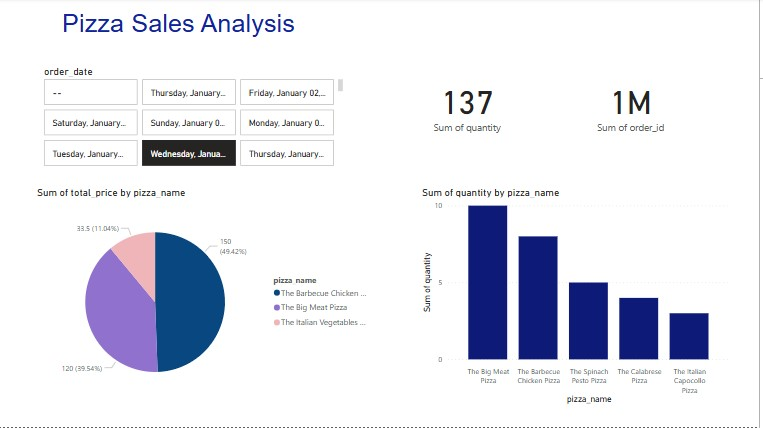

This screenshot's page, from the dashboard's own definition file:
{"tool":"powerbi","page":{"name":"Page 1","canvas":[1280,720],"ordinal":0},"visuals":[{"type":"clusteredColumnChart","fields":{"Category":["pizza_sales.pizza_name"],"Y":["Sum(pizza_sales.quantity)"]},"box":[708.9,315.8,527.5,371.2],"z":0},{"type":"pieChart","fields":{"Category":["pizza_sales.pizza_name"],"Y":["Sum(pizza_sales.total_price)"]},"box":[62.2,315.8,577.8,371.2],"z":1000},{"type":"card","fields":{"Values":["Sum(pizza_sales.quantity)"]},"box":[668.6,112.5,241.9,132.7],"z":2000},{"type":"card","fields":{"Values":["Sum(pizza_sales.order_id)"]},"box":[930.6,112.5,267.1,132.7],"z":4000},{"type":"advancedSlicerVisual","fields":{"Values":["pizza_sales.order_date"]},"box":[73.9,112.5,512.3,174.7],"z":5000},{"type":"textbox","box":[62.2,13.4,485.5,99.1],"z":6000}]}

Visuals, with their boxes in screenshot pixels (x1, y1, x2, y2), scaled from the page's 1280x720 canvas onto the 763x428 screenshot:
clusteredColumnChart - pizza_sales.pizza_name x Sum(pizza_sales.quantity): pyautogui.locateOnScreen(423, 188, 737, 408)
pieChart - pizza_sales.pizza_name x Sum(pizza_sales.total_price): pyautogui.locateOnScreen(37, 188, 382, 408)
card - Sum(pizza_sales.quantity): pyautogui.locateOnScreen(399, 67, 543, 146)
card - Sum(pizza_sales.order_id): pyautogui.locateOnScreen(555, 67, 714, 146)
advancedSlicerVisual - pizza_sales.order_date: pyautogui.locateOnScreen(44, 67, 349, 171)
textbox: pyautogui.locateOnScreen(37, 8, 326, 67)
